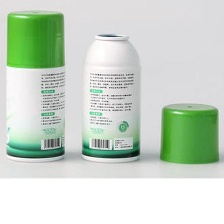aerosol_cans: (1, 4, 70, 165), (78, 27, 144, 165)
